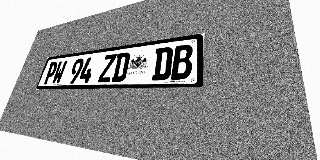4: (78, 56, 96, 83)
9: (67, 58, 85, 84)
B: (171, 44, 193, 80)
D: (151, 46, 173, 81), (111, 52, 131, 82)
P: (43, 61, 59, 84)
W: (51, 60, 68, 84)
Z: (98, 54, 117, 82)
